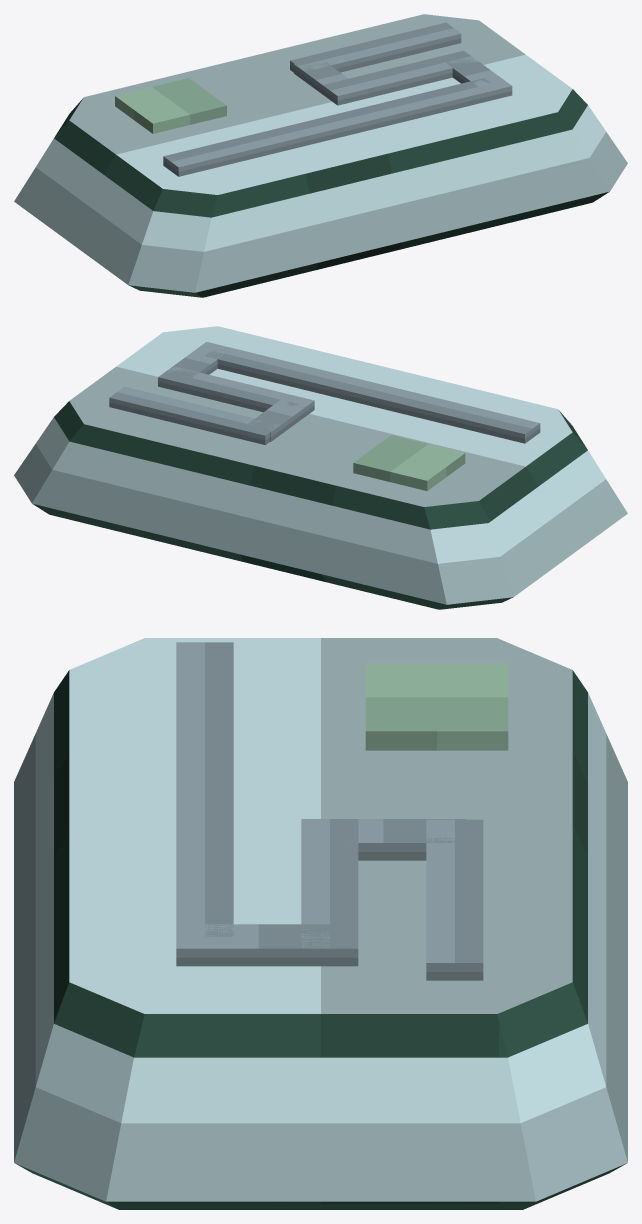
Rendered from zhuji_baiqing_lingyun_ingot.obj.
3 views of the same model, one above another, from view 1: azimuth 30°, elevation 25°; view 2: azimuth 150°, elevation 25°; view 3: azimuth 270°, elevation 25° (orthographic). The views are drawn at different scales.
Visible parts, largest first — view 1: ingot_body, cloud_ingot_fold_0, cloud_ingot_jade, cloud_ingot_fold_4, cloud_ingot_fold_2, cloud_ingot_fold_1, cloud_ingot_fold_3; view 2: ingot_body, cloud_ingot_fold_0, cloud_ingot_jade, cloud_ingot_fold_4, cloud_ingot_fold_2, cloud_ingot_fold_3, cloud_ingot_fold_1; view 3: ingot_body, cloud_ingot_fold_0, cloud_ingot_jade, cloud_ingot_fold_4, cloud_ingot_fold_2, cloud_ingot_fold_1, cloud_ingot_fold_3.
Part boxes in pixels (box(x1,y1,x2,y2)): ingot_body: box(14, 14, 627, 297); cloud_ingot_fold_0: box(163, 78, 498, 176); cloud_ingot_jade: box(115, 78, 226, 133); cloud_ingot_fold_4: box(290, 22, 461, 72); cloud_ingot_fold_2: box(322, 50, 478, 105); cloud_ingot_fold_1: box(442, 56, 512, 98); cloud_ingot_fold_3: box(294, 58, 363, 105); ingot_body: box(14, 326, 627, 609); cloud_ingot_fold_0: box(205, 345, 540, 443); cloud_ingot_jade: box(353, 435, 465, 490); cloud_ingot_fold_4: box(109, 386, 279, 445); cloud_ingot_fold_2: box(158, 366, 314, 412); cloud_ingot_fold_3: box(245, 397, 314, 441); cloud_ingot_fold_1: box(163, 341, 231, 379); ingot_body: box(14, 638, 627, 1209); cloud_ingot_fold_0: box(176, 642, 233, 936); cloud_ingot_jade: box(365, 663, 508, 750); cloud_ingot_fold_4: box(426, 819, 483, 980); cloud_ingot_fold_2: box(301, 819, 358, 966); cloud_ingot_fold_1: box(176, 924, 340, 966); cloud_ingot_fold_3: box(301, 819, 465, 860).
Bounding box in the file's own units: 0.38 × 0.0725 × 0.215.
